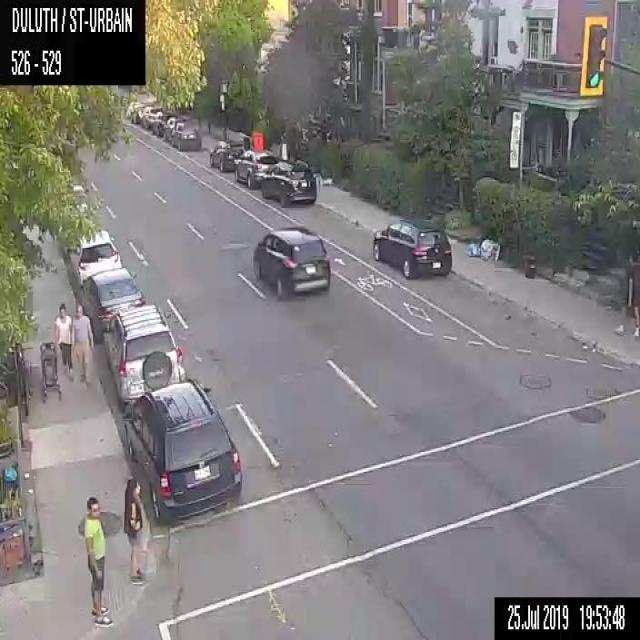construction: (252, 131, 263, 148)
pedestrian: (81, 492, 114, 627), (38, 302, 75, 404), (119, 476, 145, 585), (72, 300, 96, 384)
vehicle: (124, 378, 242, 522), (101, 304, 187, 404), (251, 223, 330, 300), (78, 267, 147, 342), (369, 217, 452, 279), (66, 229, 122, 296), (261, 158, 317, 206), (234, 148, 277, 187), (210, 138, 243, 171), (171, 120, 204, 151), (164, 116, 186, 142), (139, 106, 163, 128), (153, 112, 174, 136)
